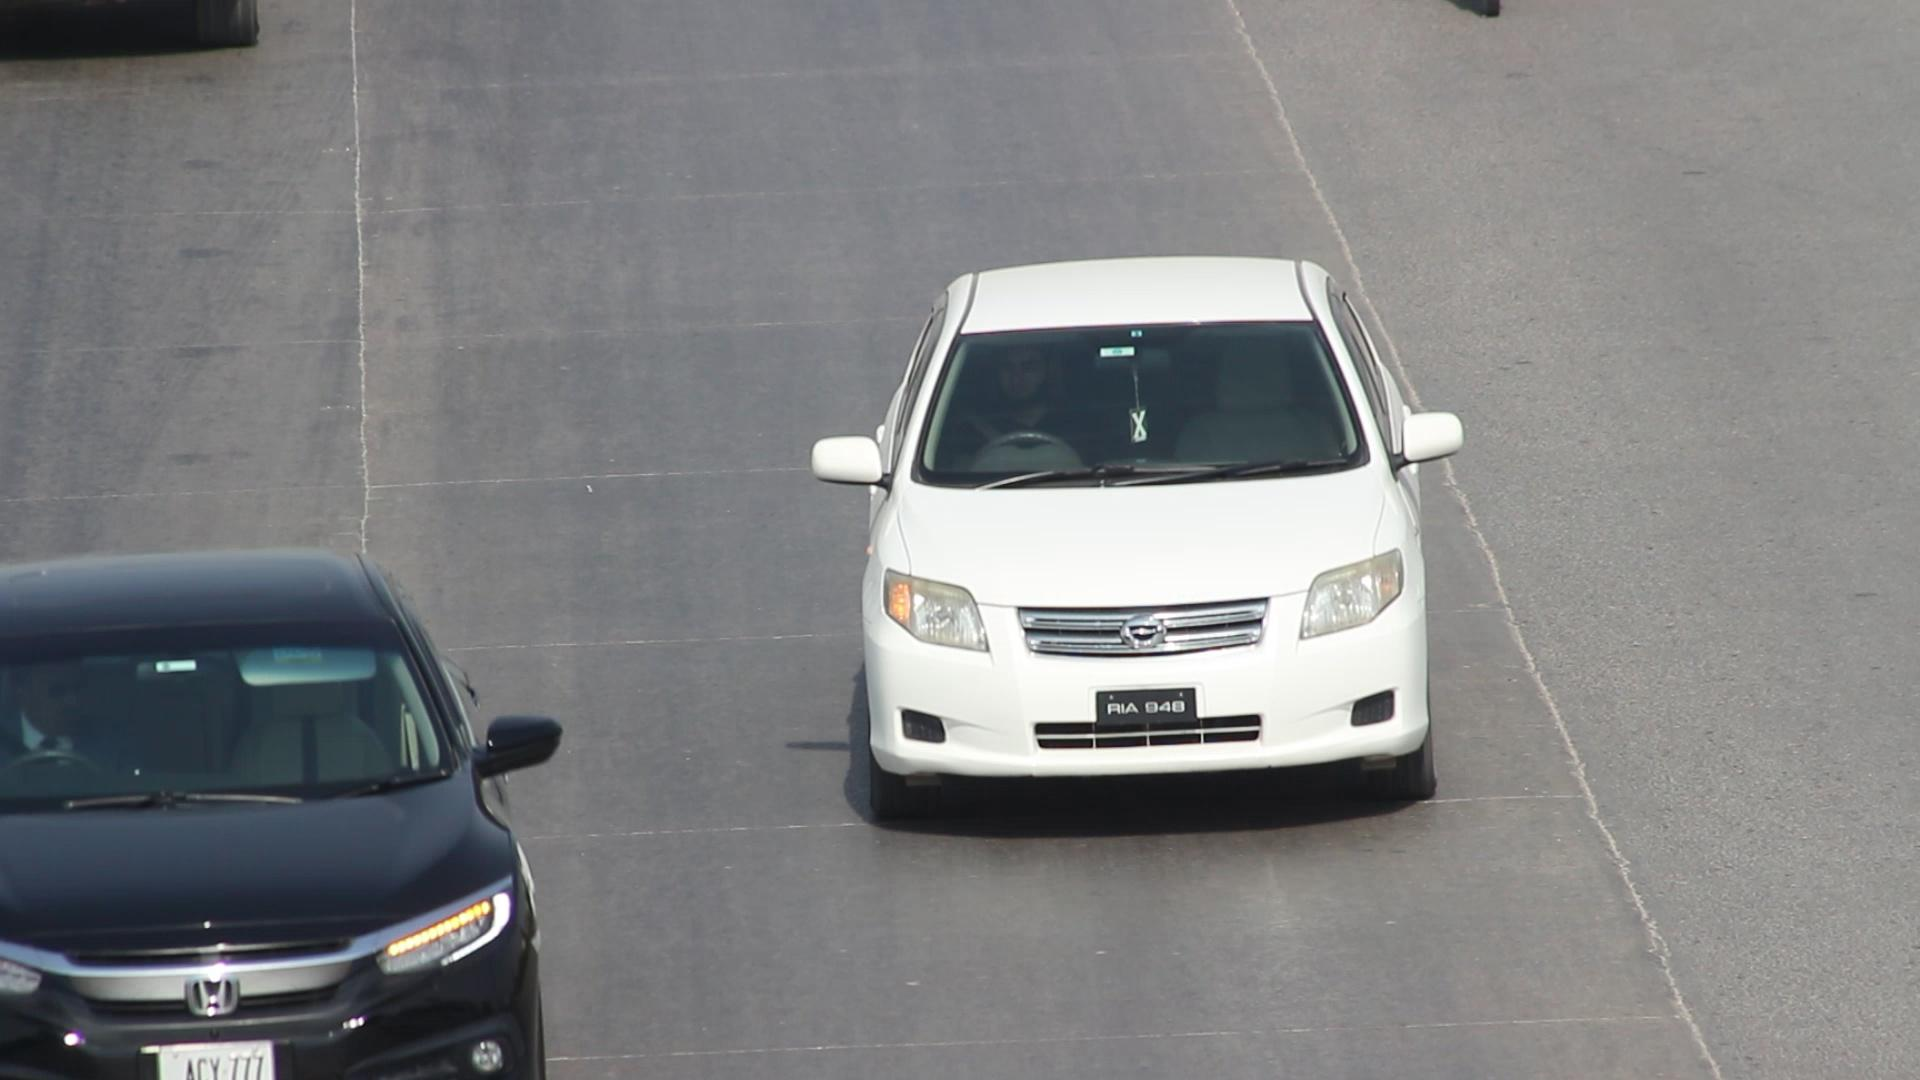windshield: (903, 297, 1381, 493)
